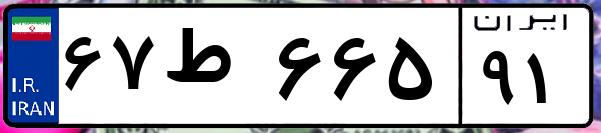1: (525, 38, 570, 115)
5: (385, 28, 445, 110)
6: (270, 28, 330, 110), (330, 28, 385, 110), (57, 26, 110, 100)
7: (110, 28, 158, 98)
9: (475, 38, 525, 113)
ط: (158, 20, 270, 120)
